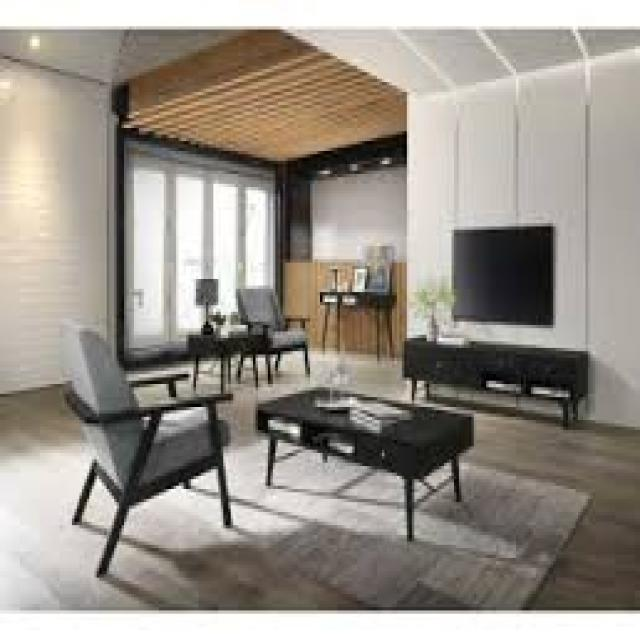Chair: (64, 328, 243, 584), (238, 289, 318, 377)
Lamp: (195, 274, 222, 334)
Sofa: (261, 381, 478, 535)
